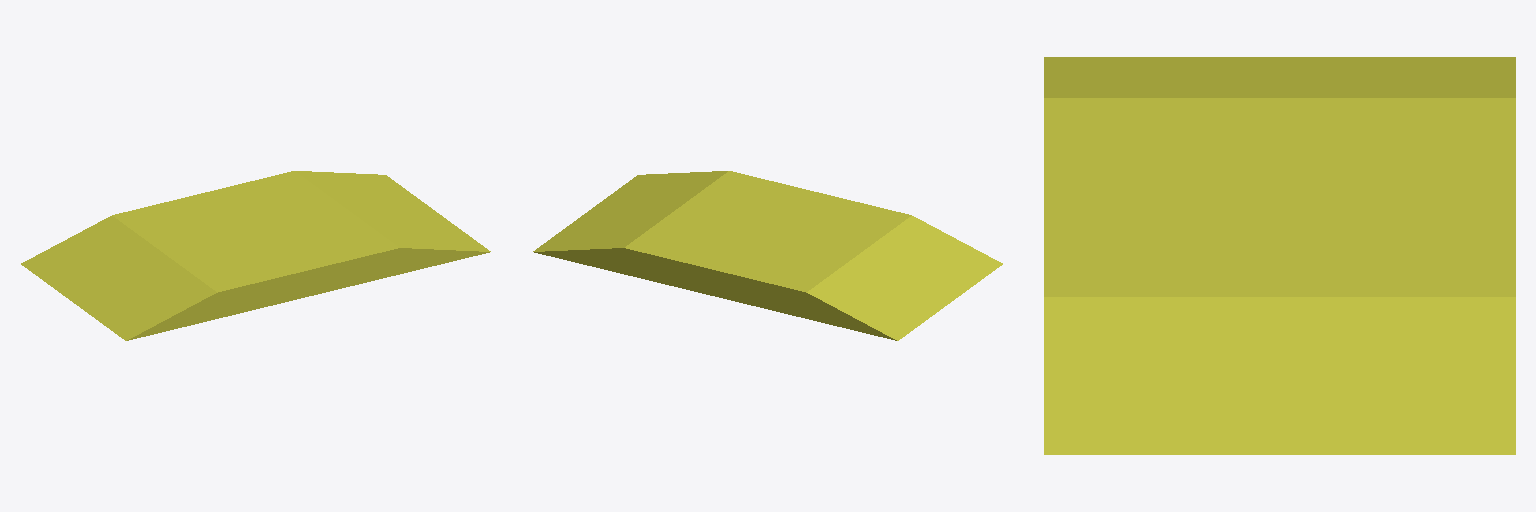
The robot description file, URDF, robot "Part1":
<?xml version="1.0" encoding="utf-8"?>
<!-- This URDF was automatically created by SolidWorks to URDF Exporter! Originally created by [author] ([email redacted]) 
     Commit Version: 1.5.1-0-g916b5db  Build Version: 1.5.7152.31018
     For more information, please see http://wiki.ros.org/sw_urdf_exporter -->
<robot
  name="Part1">
  <link
    name="ramp_5">
    <inertial>
      <origin
        xyz="7.5814E-16 7.67928484115444E-17 -0.005"
        rpy="0 0 0" />
      <mass
        value="500" />
      <inertia
        ixx="180.35"
        ixy="-6.0423E-14"
        ixz="4.7564E-15"
        iyy="450.35"
        iyz="1.08287265732095E-14"
        izz="630" />
    </inertial>
    <visual>
      <origin
        xyz="-1.5 0 0"
        rpy="1.5707963267949 0 0" />
      <geometry>
        <mesh
          filename="package://ramp_5/meshes/ramp_5.STL" scale="1.5 4.602 1.5" />
      </geometry>
      <material
        name="">
        <color
          rgba="0.8 0.8 0.3 1" />
        <texture
          filename="package://ramp_5/textures/" />
      </material>
    </visual>
    <collision>
      <origin
        xyz="-1.5 0 0"
        rpy="1.5707963267949 0 0" />
      <geometry>
        <mesh
          filename="package://ramp_5/meshes/ramp_5.STL"  scale="1.5 4.602 1.5"/>
      </geometry>
    </collision>
  </link>
</robot>

--- What the picture shows (computed from the rendered views, not written in the file) ---
Views: 3 orthographic renders of the robot side by side, from view 1: azimuth 30°, elevation 25°; view 2: azimuth 150°, elevation 25°; view 3: azimuth 270°, elevation 25°.
Robot: Part1 — 1 links, 0 joints (none); root link ramp_5; default pose: all joints at 0.
Links seen in each view (by area): view 1: ramp_5; view 2: ramp_5; view 3: ramp_5.
Boxes of the visible links, x1,y1,x2,y2 form: ramp_5: (21,171,490,340); ramp_5: (533,171,1002,340); ramp_5: (1044,57,1515,454).
Bounding box of the posed robot: 6 × 3 × 0.4142 m (x, y, z).
1 mesh visuals loaded from 1 distinct referenced files (1 binary STL).